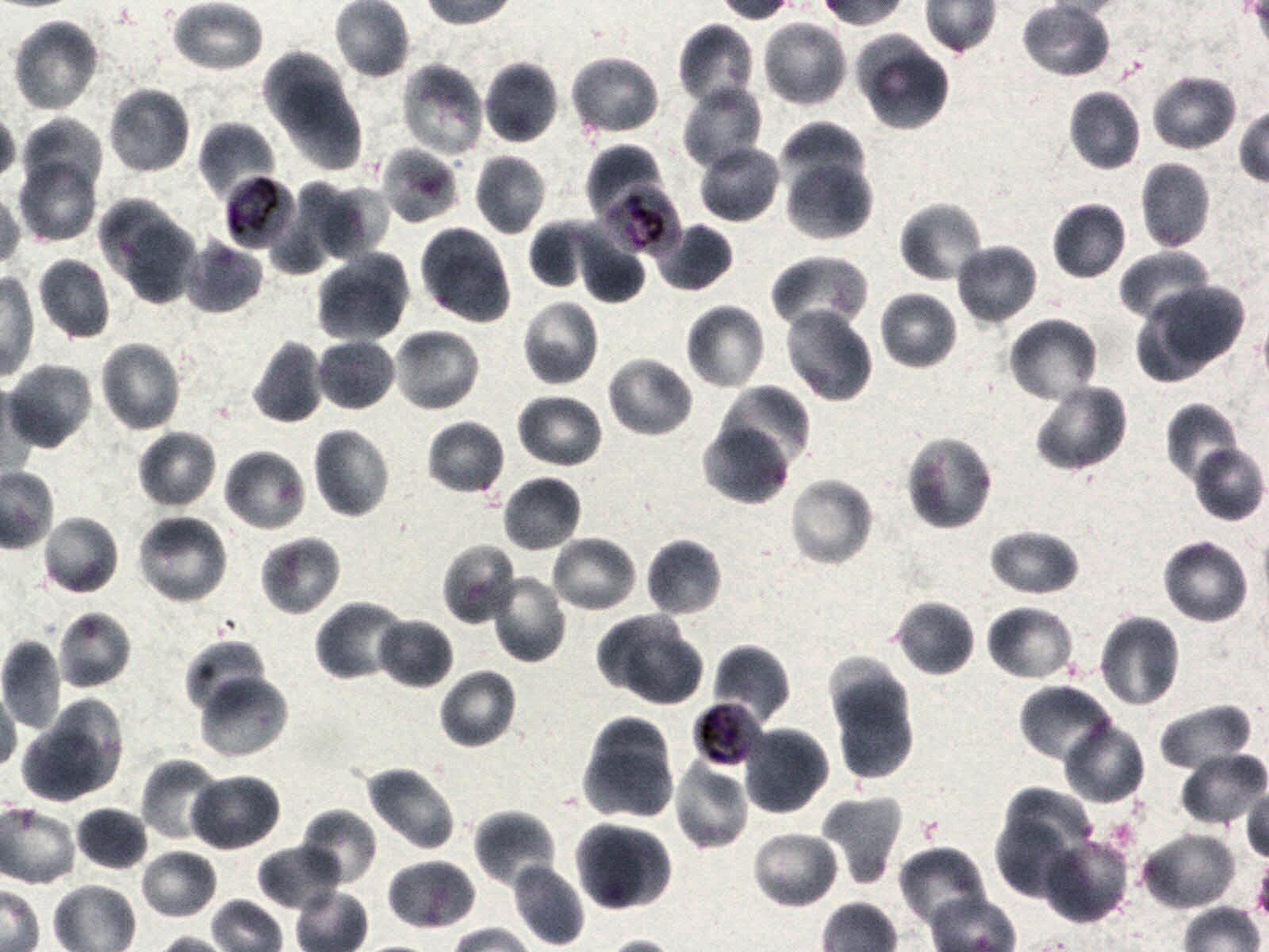Infected: (224, 173, 296, 255), (604, 182, 680, 259), (692, 700, 760, 766)
Uninfected: (419, 225, 510, 324), (316, 249, 409, 345), (134, 513, 228, 606), (895, 844, 987, 939), (783, 305, 872, 403), (1033, 382, 1128, 473), (905, 437, 994, 533), (1158, 401, 1246, 498), (1007, 315, 1098, 408), (772, 255, 868, 343), (1037, 829, 1125, 925), (740, 724, 830, 817), (782, 148, 872, 241), (12, 20, 101, 113), (784, 477, 873, 569), (1019, 682, 1112, 770), (1098, 614, 1183, 710), (315, 599, 413, 682), (759, 19, 849, 109), (1160, 539, 1251, 628), (401, 63, 485, 159), (98, 340, 184, 433), (389, 327, 481, 413), (186, 772, 282, 854), (1119, 248, 1217, 328), (364, 758, 455, 844), (1140, 831, 1236, 912), (677, 22, 757, 119), (106, 86, 191, 177), (1020, 0, 1111, 83), (504, 858, 586, 950), (312, 427, 393, 520), (140, 756, 226, 843), (606, 355, 694, 440), (569, 55, 660, 137), (684, 303, 767, 392), (749, 828, 839, 910), (819, 793, 901, 883), (8, 357, 90, 447), (200, 115, 277, 210), (221, 450, 308, 534), (472, 809, 556, 896), (519, 298, 601, 387), (986, 604, 1075, 685), (175, 235, 264, 316), (548, 535, 638, 615), (672, 761, 751, 852), (999, 821, 1090, 900), (490, 574, 568, 666), (169, 0, 263, 76), (954, 242, 1038, 327), (259, 534, 343, 619), (697, 140, 781, 225), (1150, 72, 1238, 153), (256, 835, 346, 914), (725, 387, 810, 470), (482, 60, 562, 147), (646, 215, 735, 293), (1136, 159, 1213, 249), (442, 542, 521, 629), (1139, 296, 1217, 384), (199, 677, 288, 754), (1179, 751, 1268, 828), (1160, 704, 1252, 778), (438, 666, 519, 750), (516, 393, 604, 470), (296, 804, 377, 887), (388, 855, 475, 932), (137, 428, 219, 509), (40, 514, 121, 596), (878, 290, 958, 373), (499, 475, 582, 555), (312, 336, 397, 414), (270, 178, 339, 274), (36, 256, 113, 342), (253, 339, 329, 426), (988, 528, 1081, 599), (1186, 444, 1267, 525), (46, 610, 129, 689), (373, 148, 458, 225), (688, 86, 765, 171), (285, 83, 359, 171), (425, 418, 506, 497), (1066, 88, 1141, 173), (645, 539, 723, 620), (704, 428, 787, 504), (1008, 787, 1095, 859), (1064, 725, 1144, 803), (1162, 279, 1240, 359), (894, 600, 976, 676), (374, 619, 453, 697), (137, 845, 217, 922), (1051, 201, 1127, 281), (259, 56, 341, 130), (98, 197, 174, 276), (903, 204, 983, 279), (581, 753, 676, 816), (56, 697, 120, 790), (600, 614, 678, 689), (573, 820, 640, 907), (839, 707, 917, 781), (715, 647, 785, 729), (853, 33, 930, 107), (870, 60, 950, 131), (573, 217, 641, 300), (72, 802, 150, 874), (591, 717, 673, 784), (2, 643, 63, 733), (29, 118, 105, 190), (130, 220, 194, 305), (336, 1, 405, 79), (27, 161, 92, 243), (604, 825, 669, 907), (21, 731, 94, 804), (317, 185, 389, 259), (470, 157, 544, 227), (189, 643, 263, 711), (788, 120, 865, 185), (629, 639, 704, 704), (587, 147, 664, 210), (533, 216, 593, 286), (836, 678, 907, 735)
